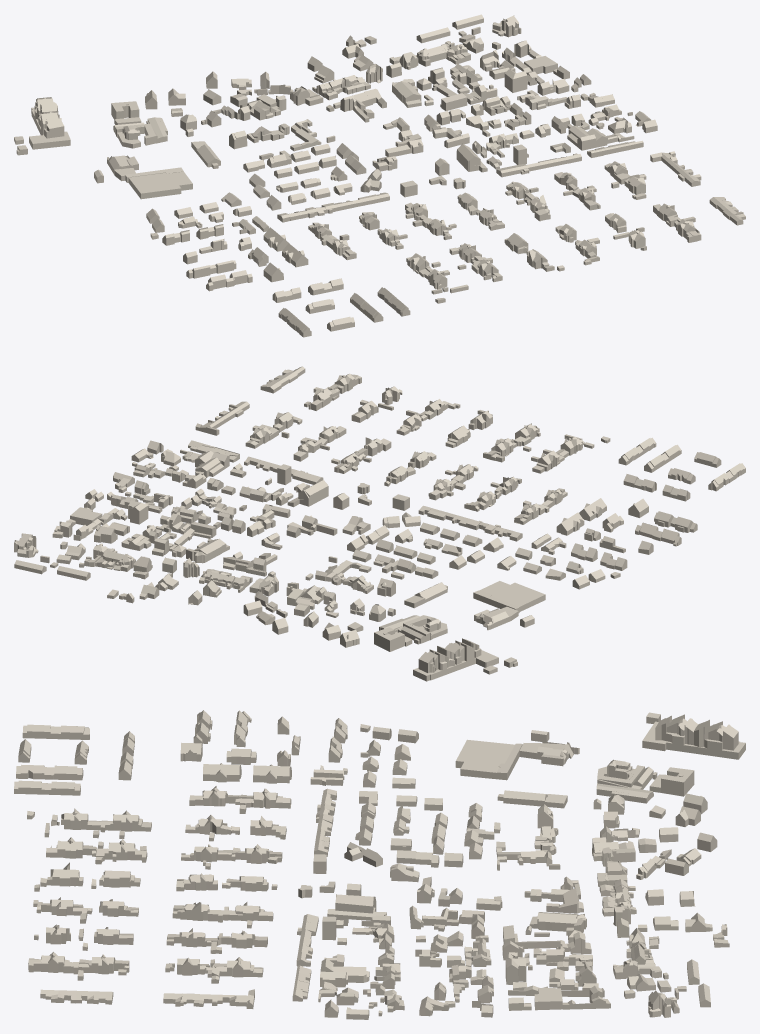
The picture shows the model from 3 angles, top to bottom: view 1: azimuth 30°, elevation 25°; view 2: azimuth 150°, elevation 25°; view 3: azimuth 270°, elevation 25°; orthographic projection. The views are drawn at different scales.
Size of the model in its own units: 452 by 21.36 by 464.
